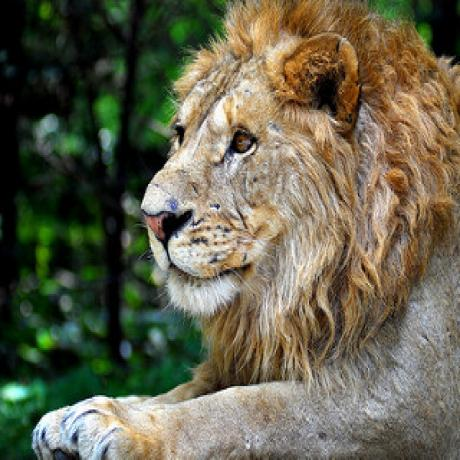Lion: (37, 0, 460, 460)
